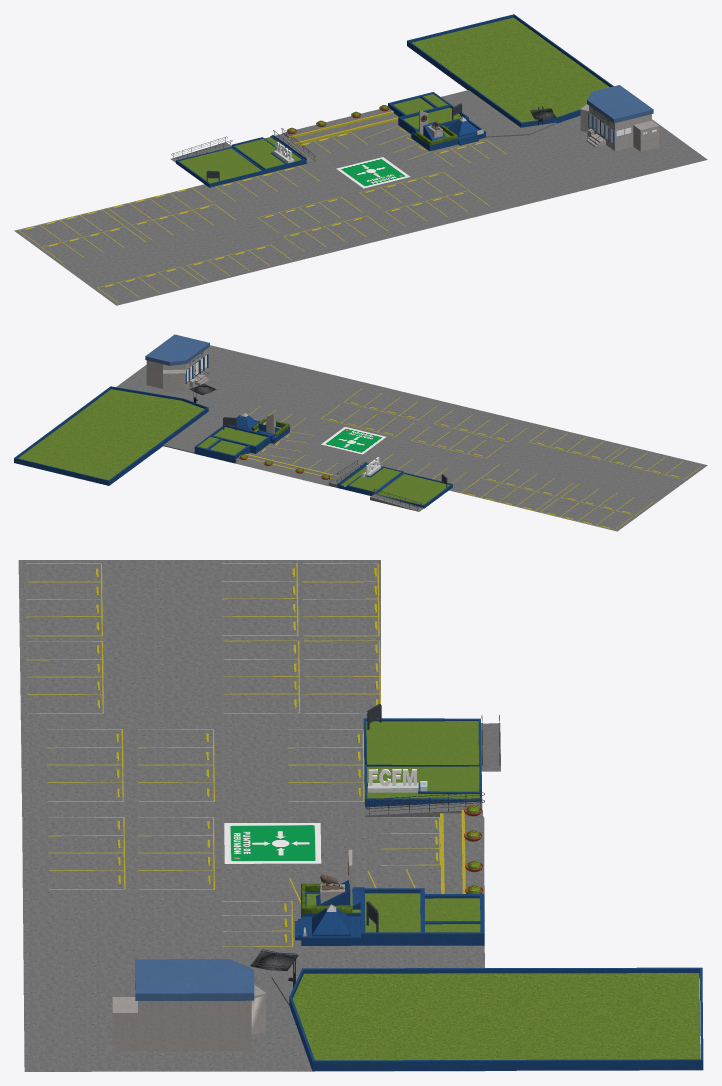
File: Est_.glb
3 renders of one model, top to bottom at view 1: azimuth 30°, elevation 25°; view 2: azimuth 150°, elevation 25°; view 3: azimuth 270°, elevation 25°, orthographic. The views are drawn at different scales.
Parts seen in each view (by area): view 1: Escalones_Estacionamiento, Jardinera_03, Sala_Maestros, Punto_Reunion; view 2: Escalones_Estacionamiento, Jardinera_03, Sala_Maestros, Punto_Reunion; view 3: Escalones_Estacionamiento, Jardinera_03, Sala_Maestros, Punto_Reunion, FCFM_Letras.
Boxes of the visible parts, x1,y1,x2,y2 form: Escalones_Estacionamiento: (14, 90, 707, 305); Jardinera_03: (171, 14, 647, 187); Sala_Maestros: (419, 85, 659, 151); Punto_Reunion: (336, 157, 410, 188); Escalones_Estacionamiento: (116, 345, 707, 531); Jardinera_03: (14, 355, 452, 510); Sala_Maestros: (145, 334, 275, 433); Punto_Reunion: (321, 427, 386, 454); Escalones_Estacionamiento: (18, 560, 500, 1071); Jardinera_03: (252, 704, 703, 1071); Sala_Maestros: (112, 849, 352, 1051); Punto_Reunion: (224, 823, 321, 863); FCFM_Letras: (368, 769, 427, 792).
Bounding box in the file's own units: 1.05 × 0.0562 × 0.5923.
Materials: 24 (20 with a texture image).
